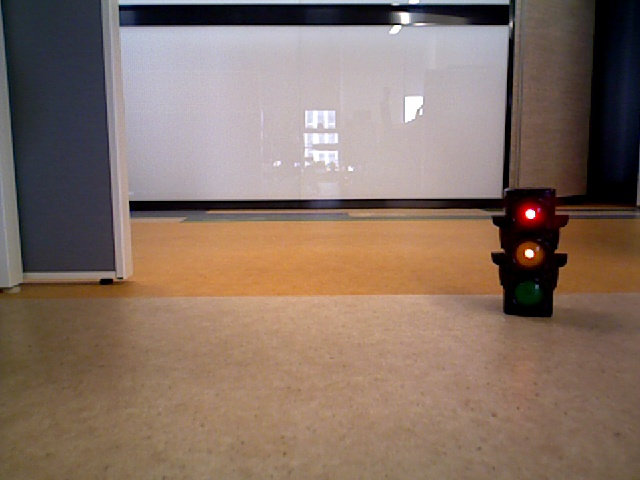red: (504, 194, 545, 311)
